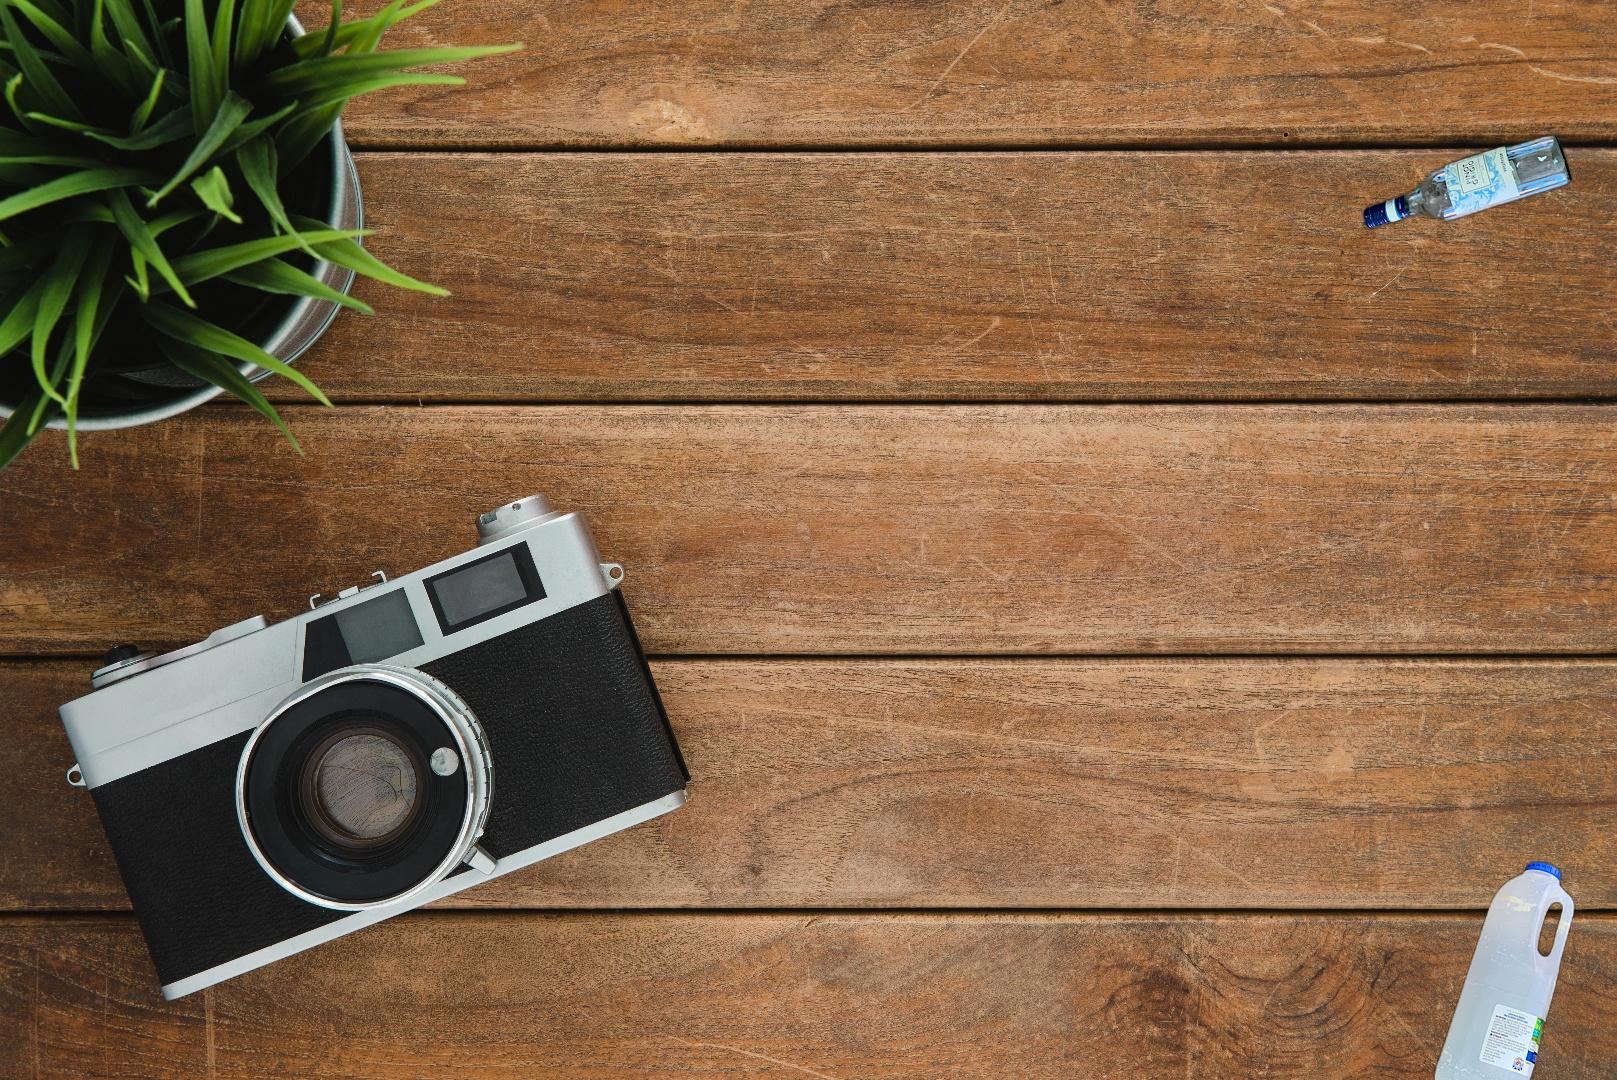glass: (1359, 128, 1577, 235)
plastic-bottles: (1429, 855, 1578, 1080)
